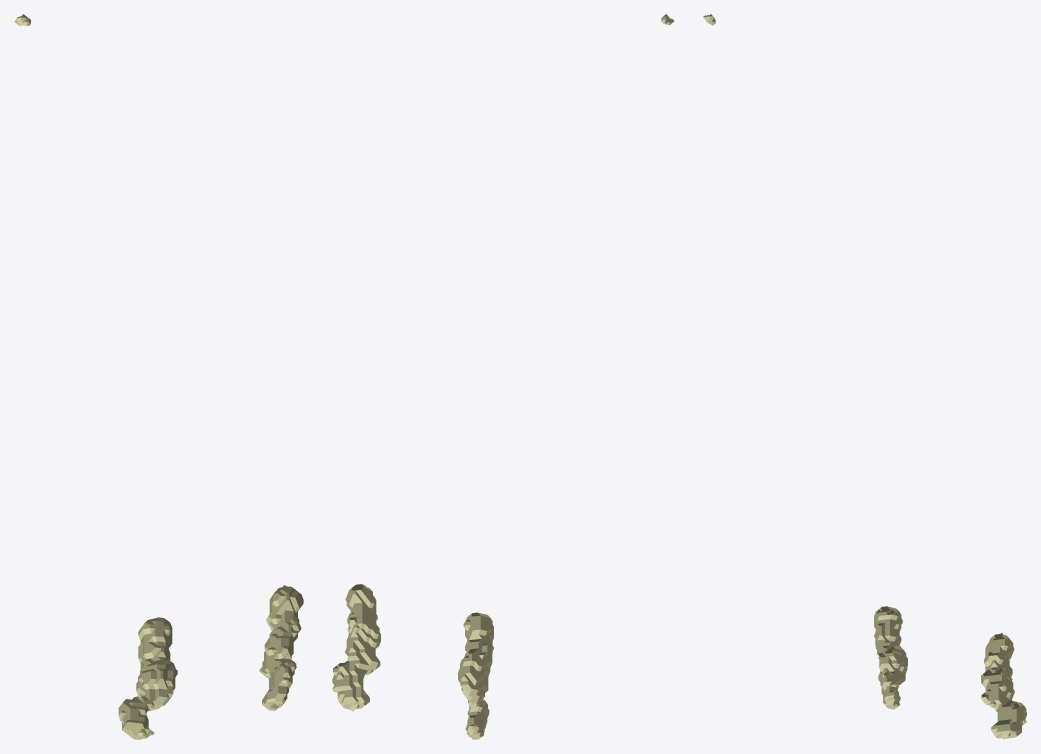
File: region_0157_TVS__vestibulo-spinal_tract_.glb
3 renders of one model, left to right at view 1: azimuth 30°, elevation 25°; view 2: azimuth 150°, elevation 25°; view 3: azimuth 330°, elevation 25°, orthographic. The views are drawn at different scales.
Parts seen in each view (by area): view 1: world; view 2: world; view 3: world.
Part boxes in pixels (bbox=[...]): world: bbox=[14, 14, 303, 739]; world: bbox=[332, 14, 674, 739]; world: bbox=[703, 14, 1026, 739].
Size of the model in its own units: 0.72 by 1.68 by 0.224.
